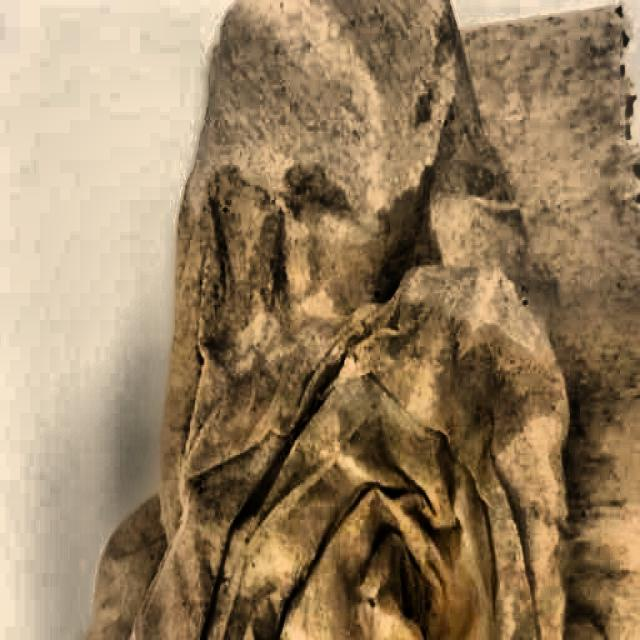trash: (162, 147, 627, 636)
